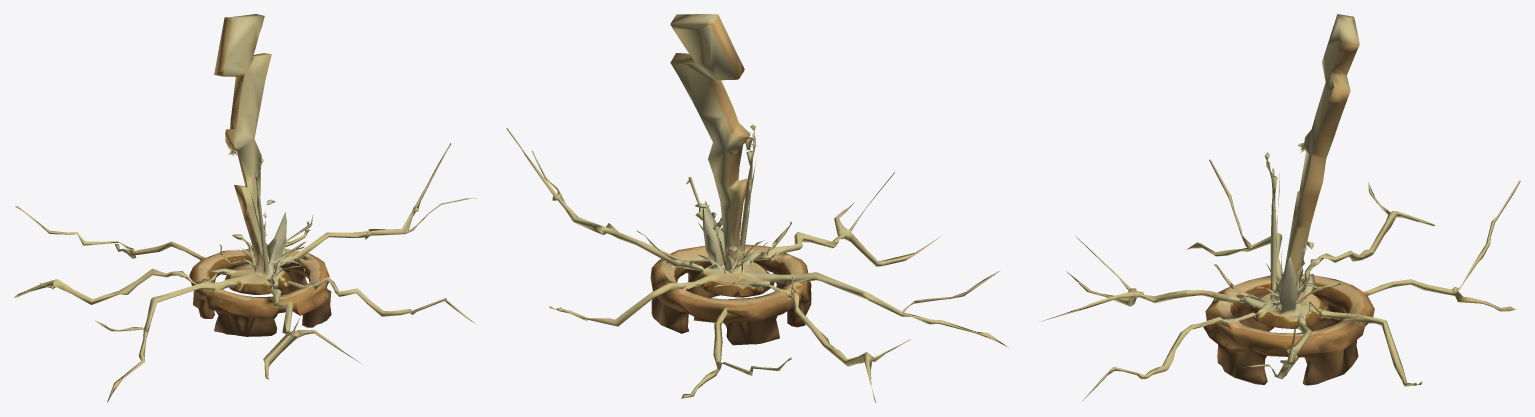
File: thunder_c.glb
The picture shows the model from 3 angles, left to right: view 1: azimuth 30°, elevation 25°; view 2: azimuth 150°, elevation 25°; view 3: azimuth 270°, elevation 25°; orthographic projection. The views are drawn at different scales.
Visible parts, largest first — view 1: tripo_node_4b87b4cf-c265-434a-afc3-09eec3c959fe; view 2: tripo_node_4b87b4cf-c265-434a-afc3-09eec3c959fe; view 3: tripo_node_4b87b4cf-c265-434a-afc3-09eec3c959fe.
Part boxes in pixels (box(x1,y1,x2,y2)): tripo_node_4b87b4cf-c265-434a-afc3-09eec3c959fe: box(14, 14, 476, 402); tripo_node_4b87b4cf-c265-434a-afc3-09eec3c959fe: box(506, 14, 1008, 402); tripo_node_4b87b4cf-c265-434a-afc3-09eec3c959fe: box(1041, 14, 1520, 401).
Size of the model in its own units: 0.9793 by 0.689 by 0.8706.
Materials: 1 (1 with a texture image).
